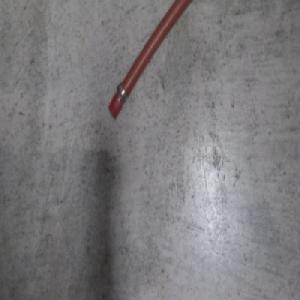Hose: (107, 0, 197, 121)
